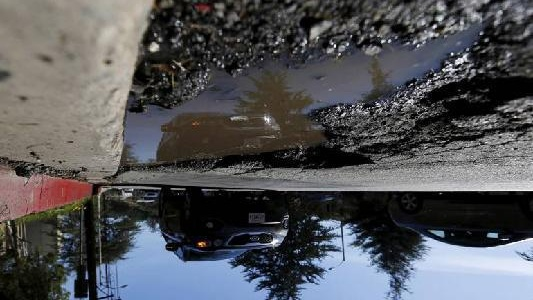pothole: (111, 0, 530, 176)
